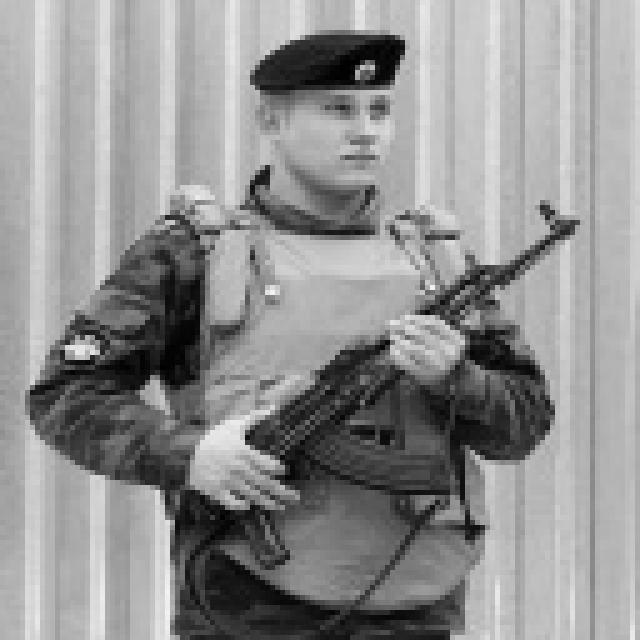Rifle: (77, 140, 597, 614)
